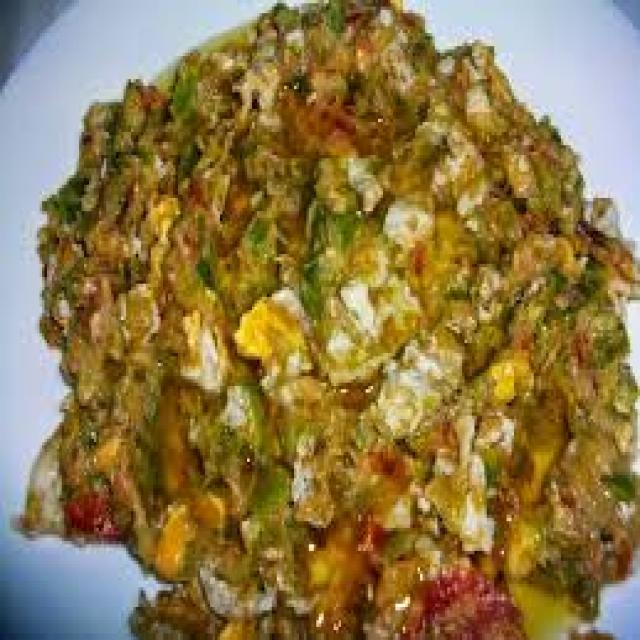Kafteji: (27, 2, 640, 637)
